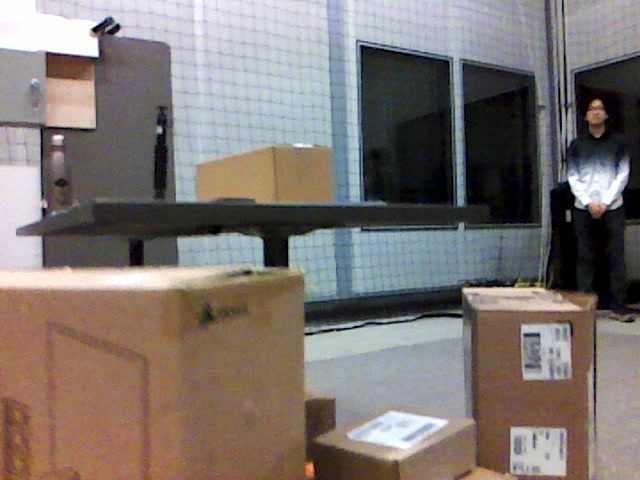box: (1, 269, 306, 478), (462, 288, 589, 477), (317, 408, 476, 478), (194, 144, 336, 201)
